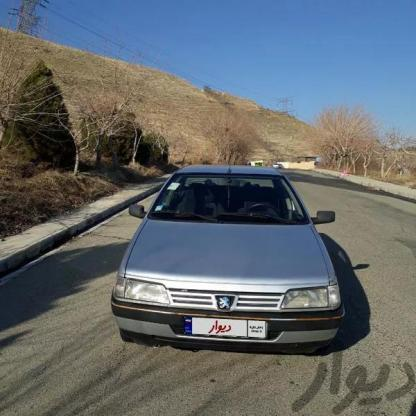Car: (112, 164, 350, 353)
